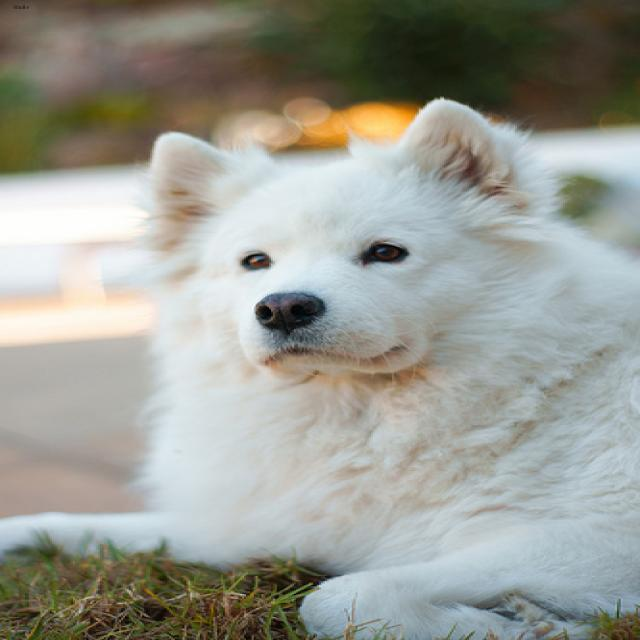dog-samoyed: (2, 84, 636, 637)
